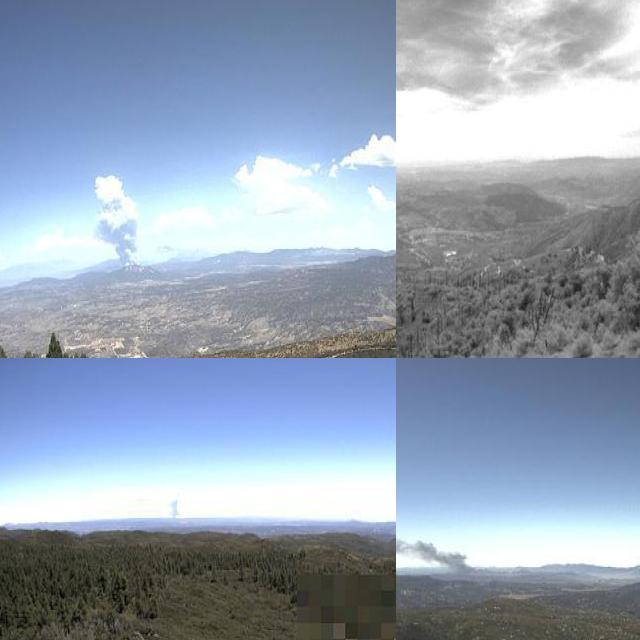smoke: (89, 170, 144, 276), (396, 533, 492, 591), (164, 495, 184, 525)
